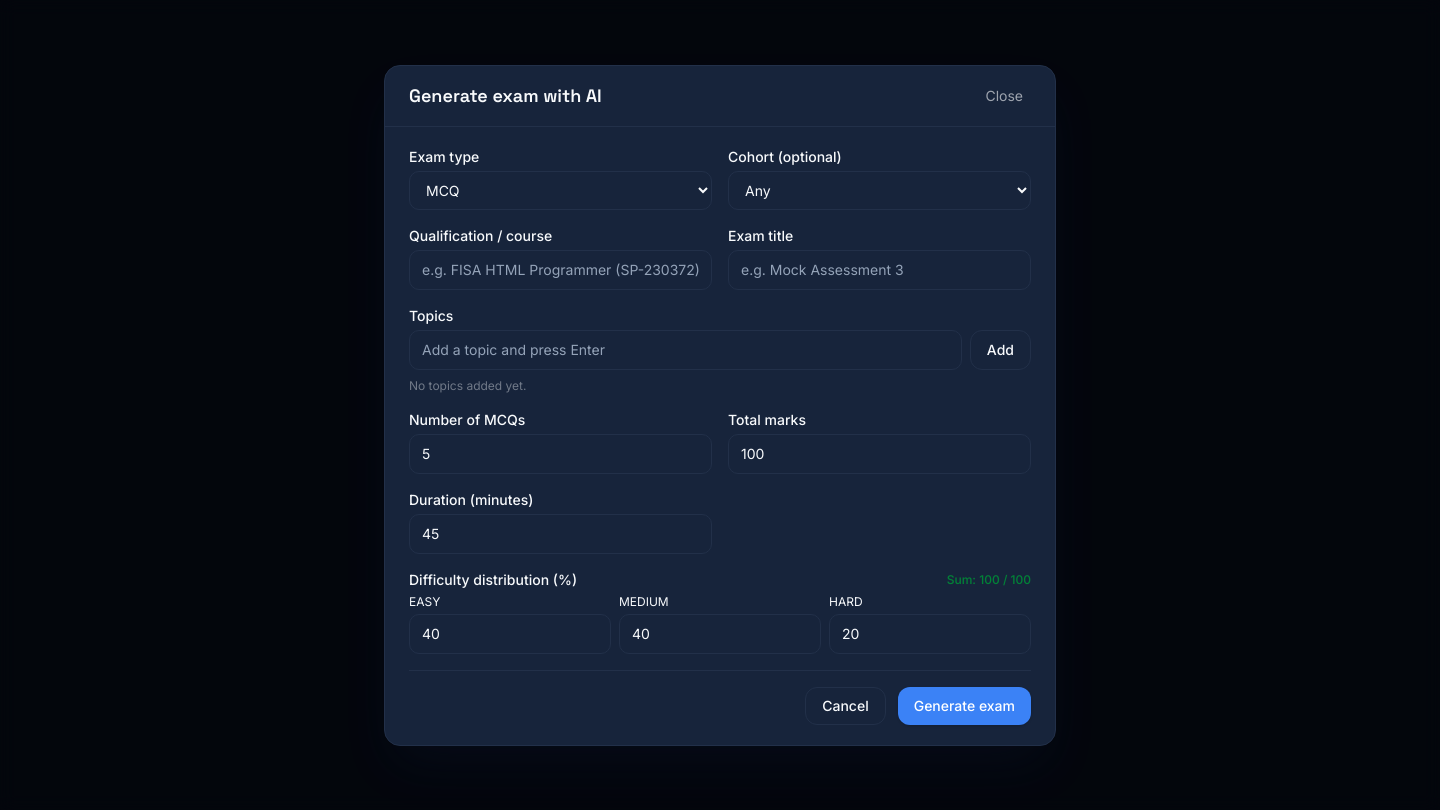
GenerateExamModal — form validation › blocks submission and shows a message when difficulty percentages don't sum to 100
Type "FISA HTML Programmer (SP-230372)" into the field with placeholder "e.g. FISA HTML Programmer (SP-230372)".
click(560, 270); type("FISA HTML Programmer (SP-230372)")  # box [409,250,712,290]
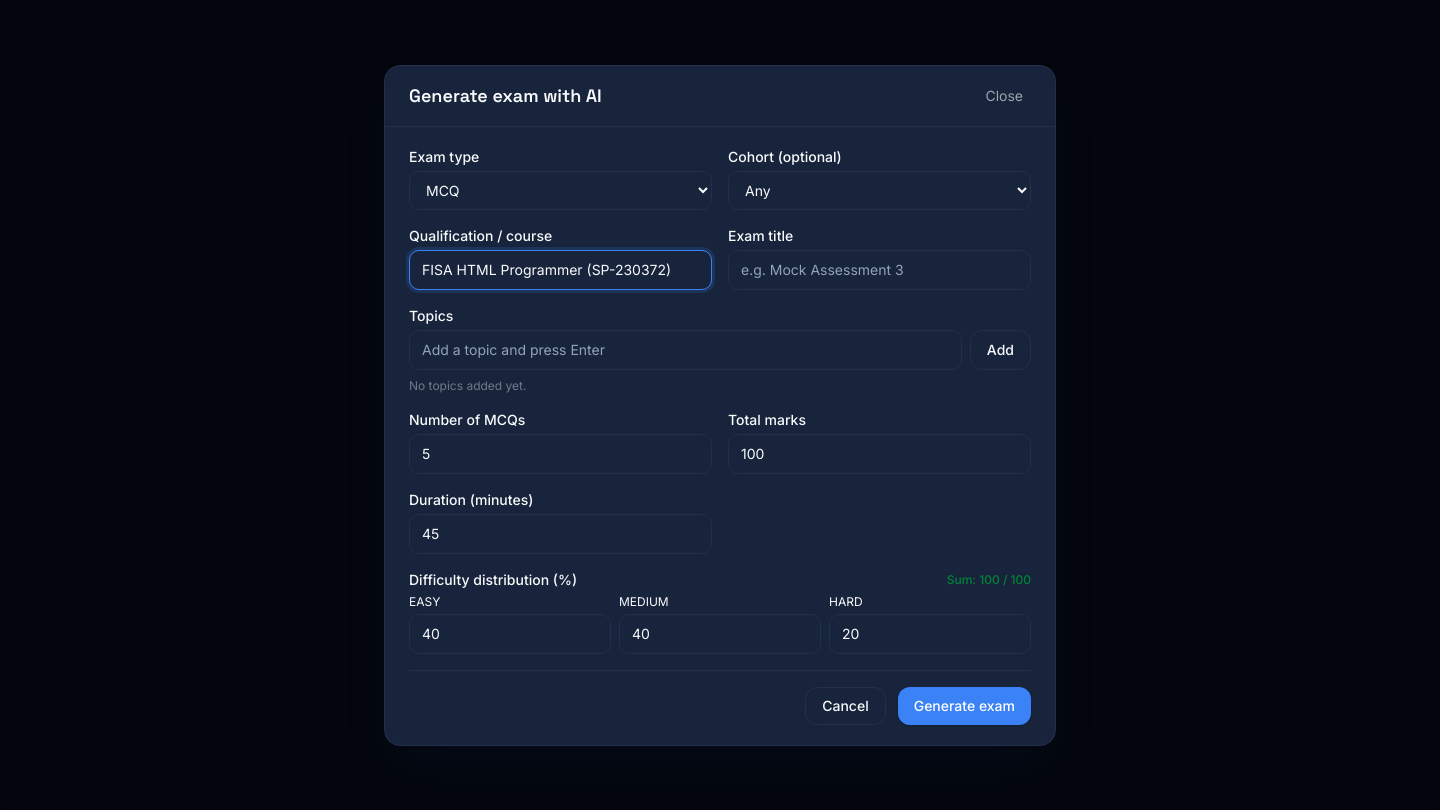
Type "Mock Assessment 3" into the field with placeholder "e.g. Mock Assessment 3".
click(880, 270); type("Mock Assessment 3")  # box [728,250,1031,290]
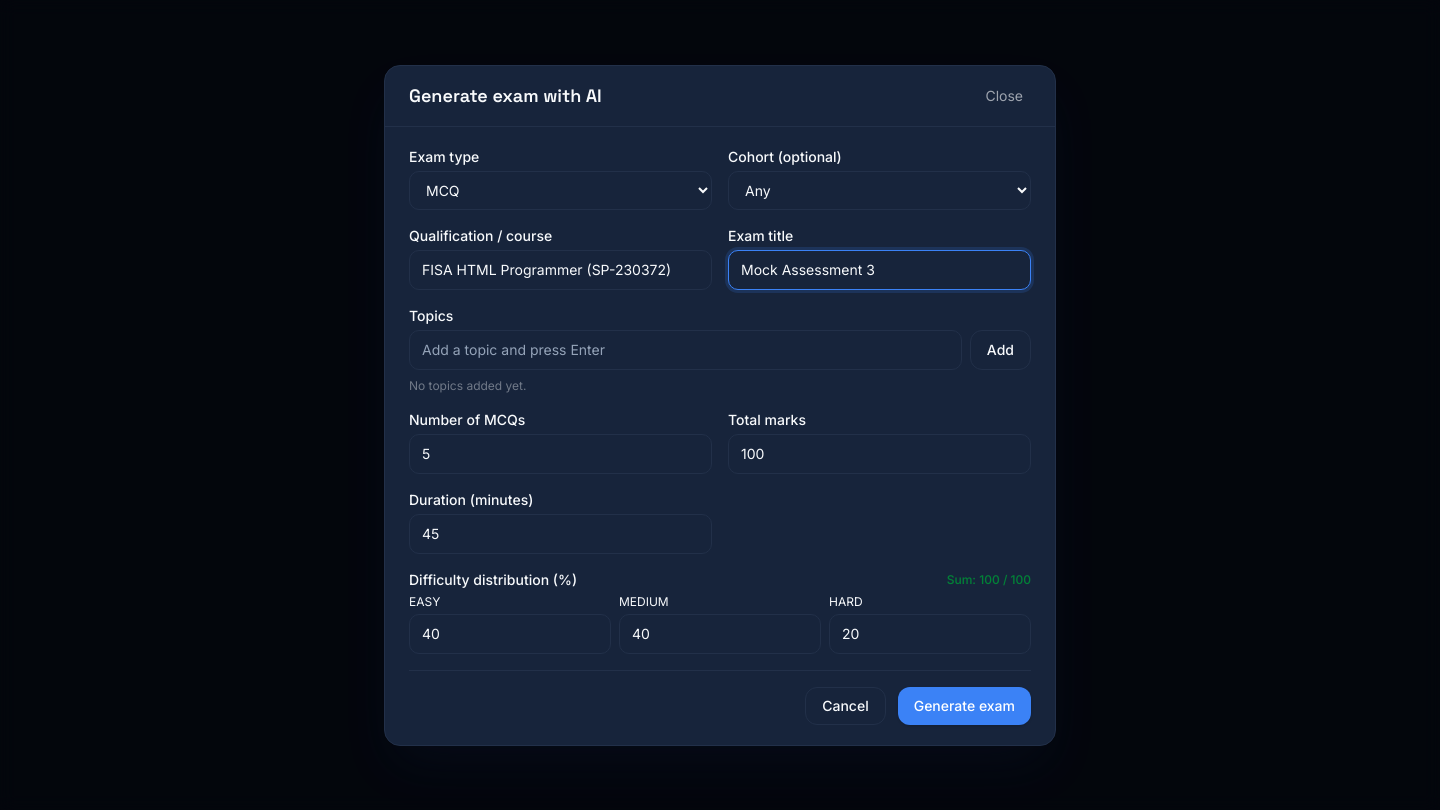
Type "Flexbox" into the field with placeholder "Add a topic and press Enter".
click(685, 350); type("Flexbox")  # box [409,330,962,370]
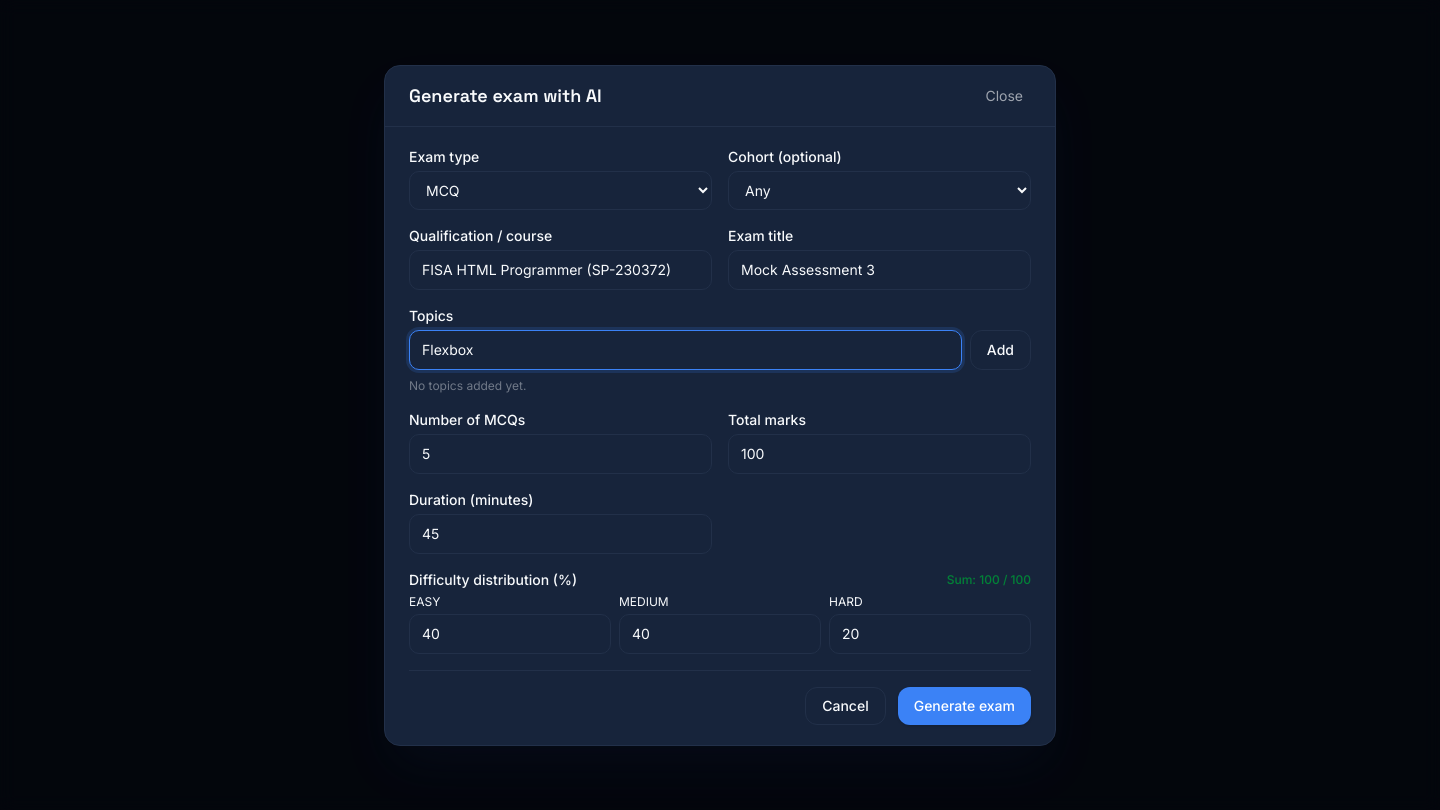
Click the button "Add".
click(1000, 350)  # box [970,330,1031,370]
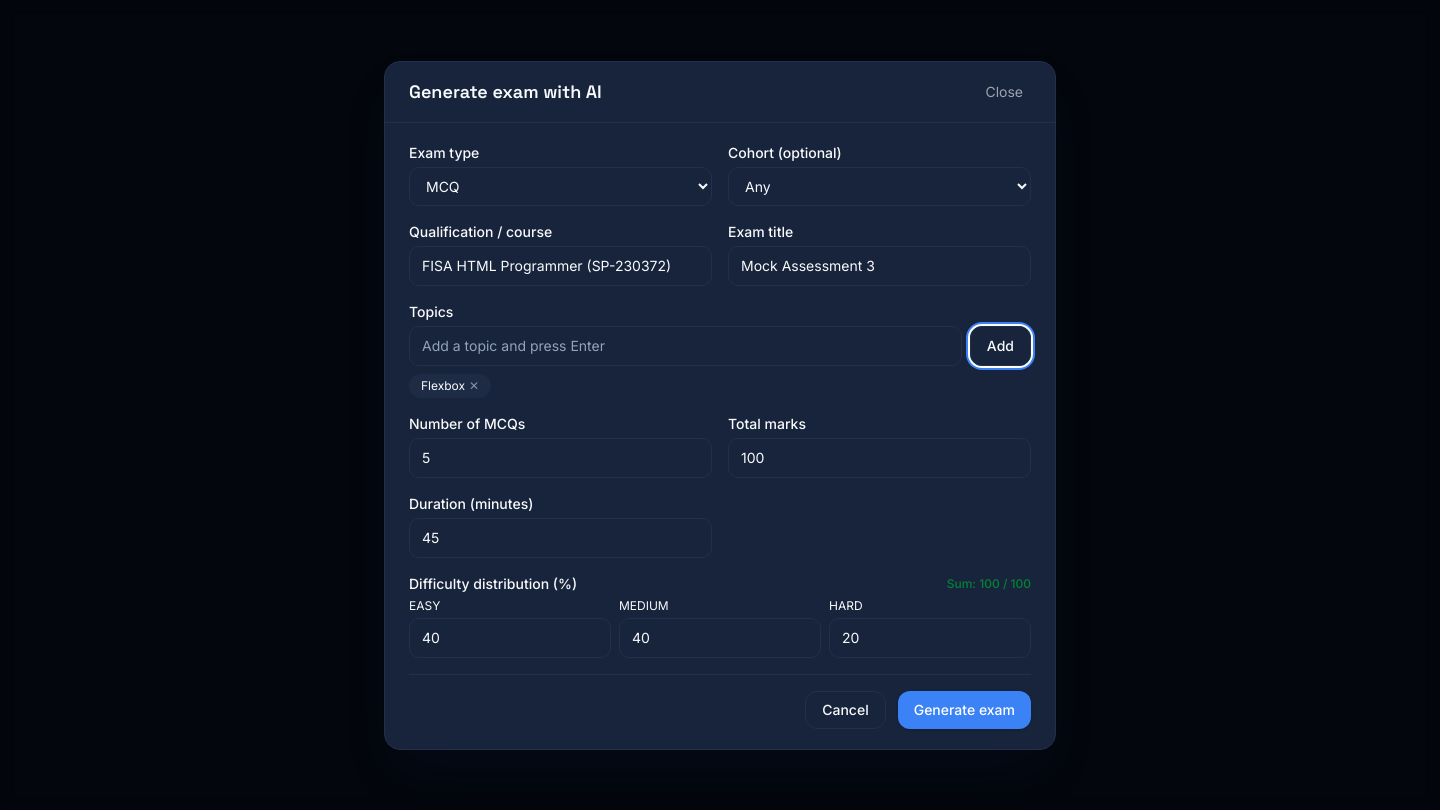
Replace the text in the number field labelled "EASY" with "10" at (510, 638), box [409,618,611,658]
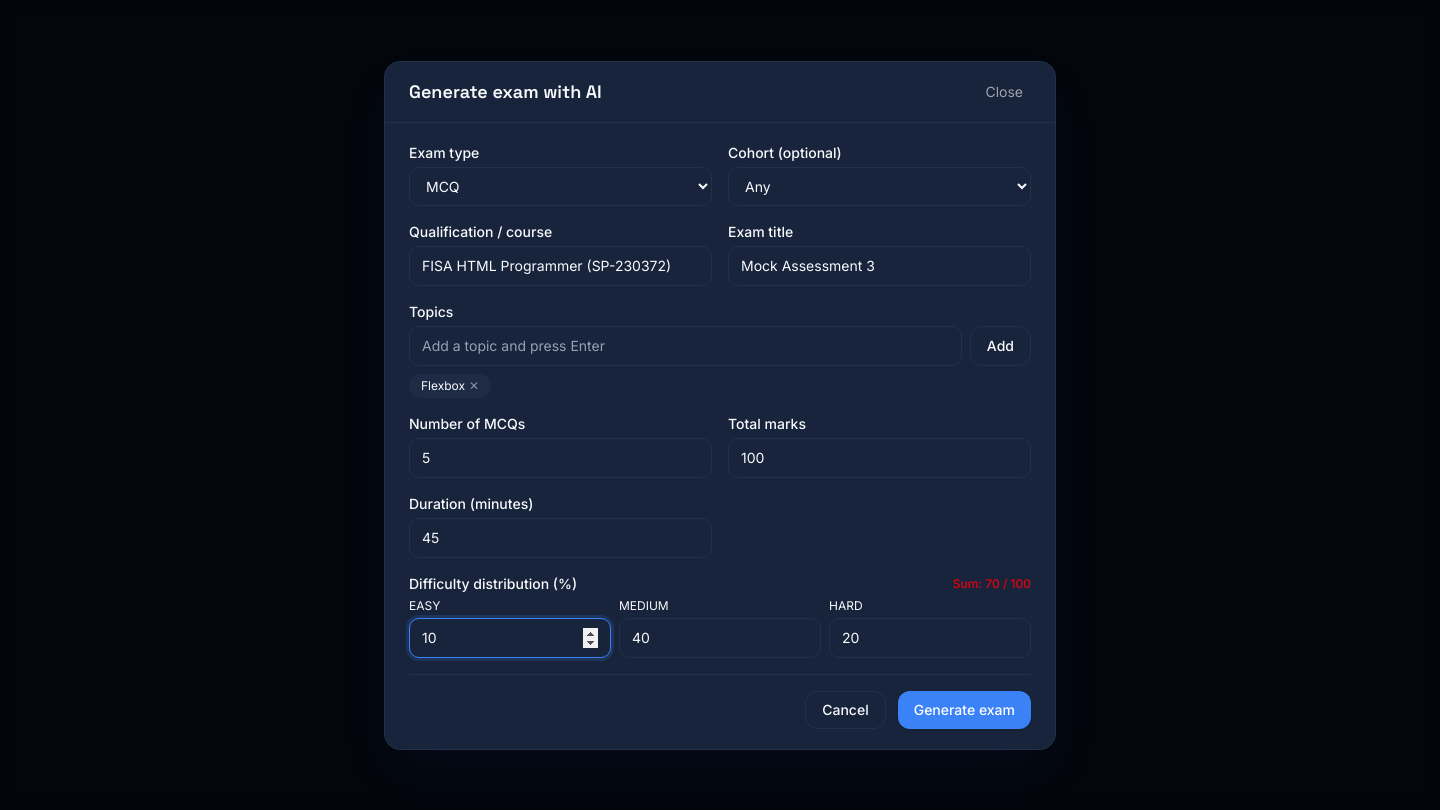
Click the button "Generate exam".
click(964, 710)  # box [898,690,1031,728]
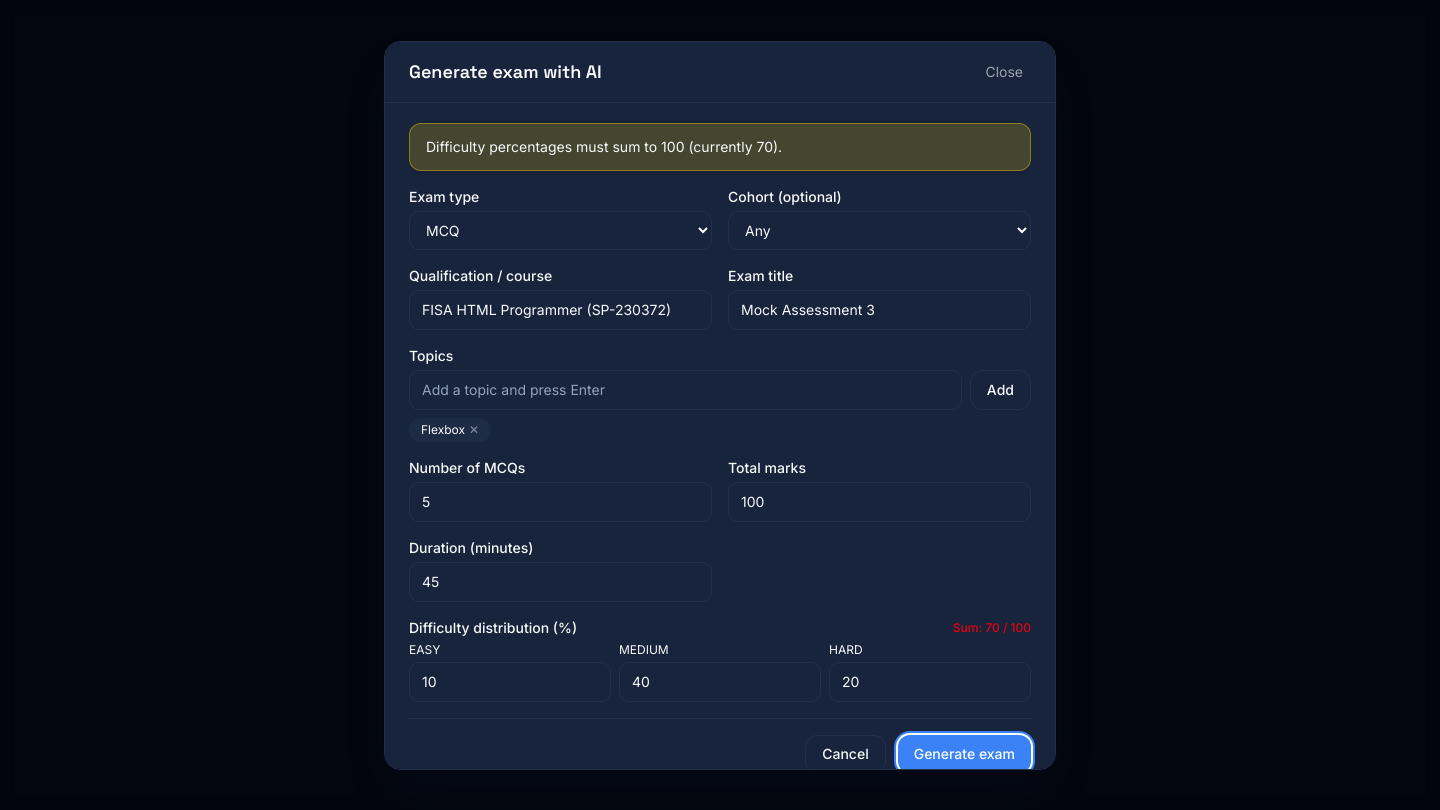
Check: the text "Difficulty percentages must sum to 100 (currently 70)." is shown, box [409,122,1031,171]
